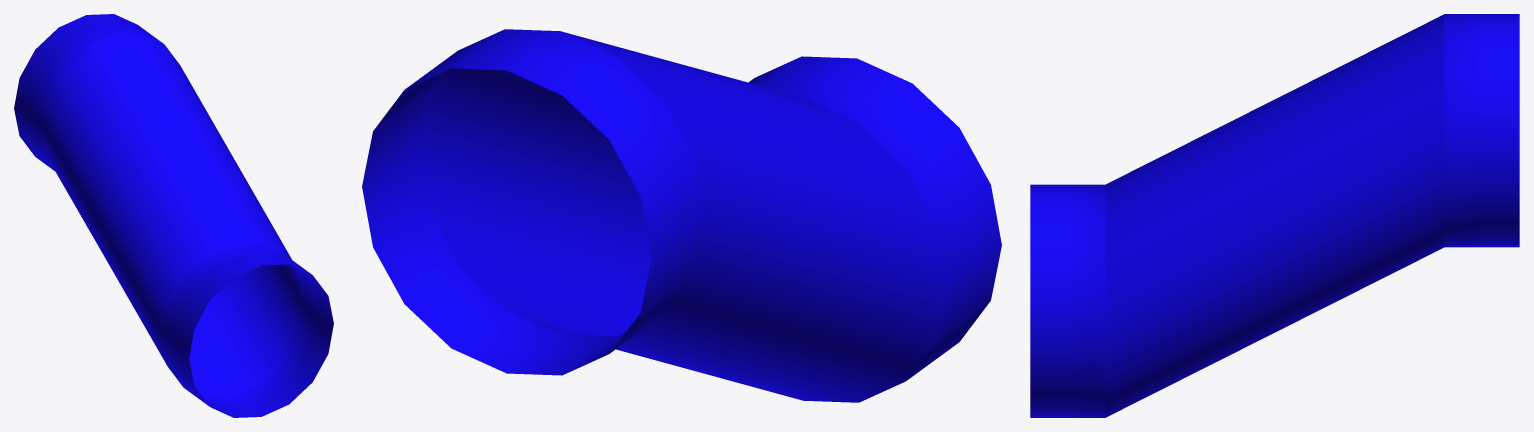
File: sm_pipe_E.fbx
3 renders of one model, left to right at view 1: azimuth 30°, elevation 25°; view 2: azimuth 150°, elevation 25°; view 3: azimuth 270°, elevation 25°, orthographic. The views are drawn at different scales.
Parts seen in each view (by area): view 1: Cylinder.009; view 2: Cylinder.009; view 3: Cylinder.009.
Part boxes in pixels (x1,y1,x2,y2): Cylinder.009: [14, 14, 333, 417]; Cylinder.009: [362, 29, 1001, 402]; Cylinder.009: [1030, 14, 1519, 417].
Size of the model in its own units: 62 by 112 by 130.
